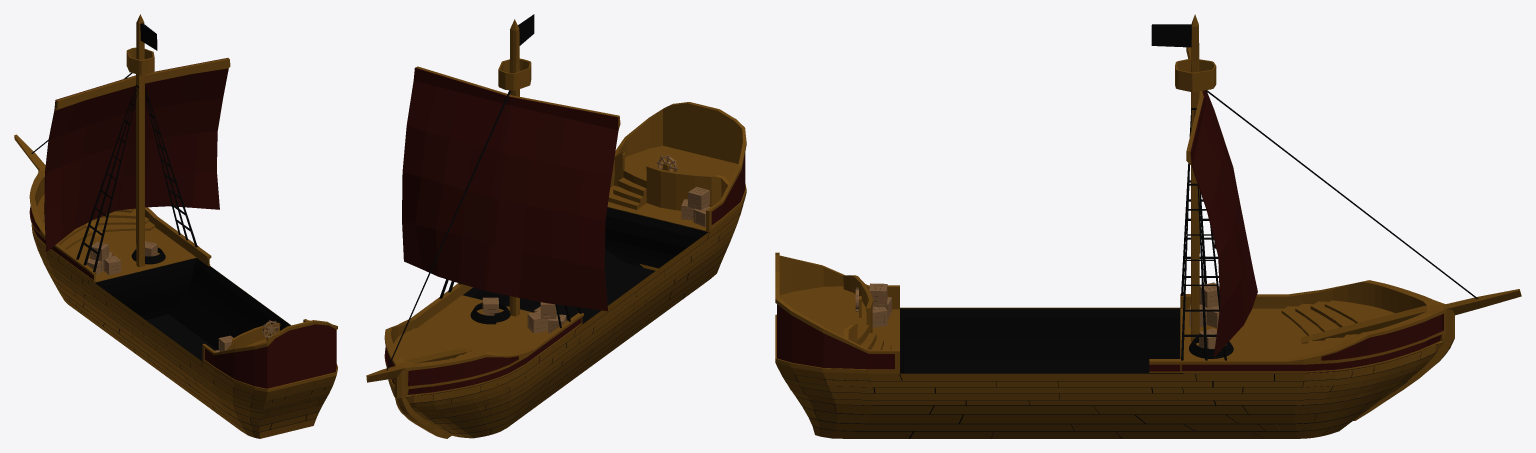
Rendered from Bateau (1).fbx.
3 views of the same model, side by side, from view 1: azimuth 30°, elevation 25°; view 2: azimuth 150°, elevation 25°; view 3: azimuth 270°, elevation 25° (orthographic). The views are drawn at different scales.
Visible parts, largest first — view 1: Plan.001, Plan; view 2: Plan.001, Plan; view 3: Plan, Plan.001.
Boxes of the visible parts, left/top/right/bottom form: Plan.001: left=14, top=14, right=337, bottom=392; Plan: left=31, top=226, right=336, bottom=438; Plan.001: left=366, top=14, right=746, bottom=398; Plan: left=388, top=195, right=745, bottom=438; Plan: left=775, top=308, right=1454, bottom=438; Plan.001: left=775, top=14, right=1521, bottom=373.
Bounding box in the file's own units: 419 × 715 × 1198.
